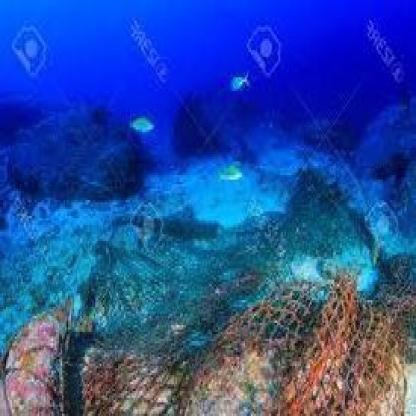net: (76, 268, 401, 416)
